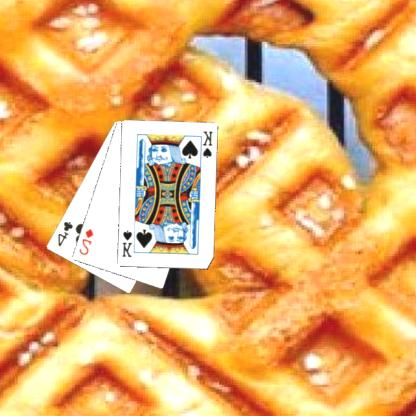2D: (78, 226, 96, 257)
4C: (56, 218, 76, 248)
KS: (199, 128, 216, 162), (121, 228, 135, 258)
